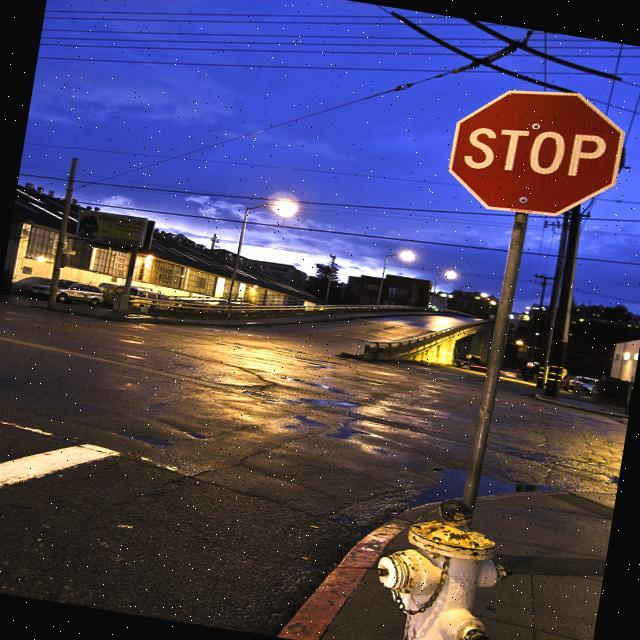fire_hydrant: (364, 488, 525, 640)
